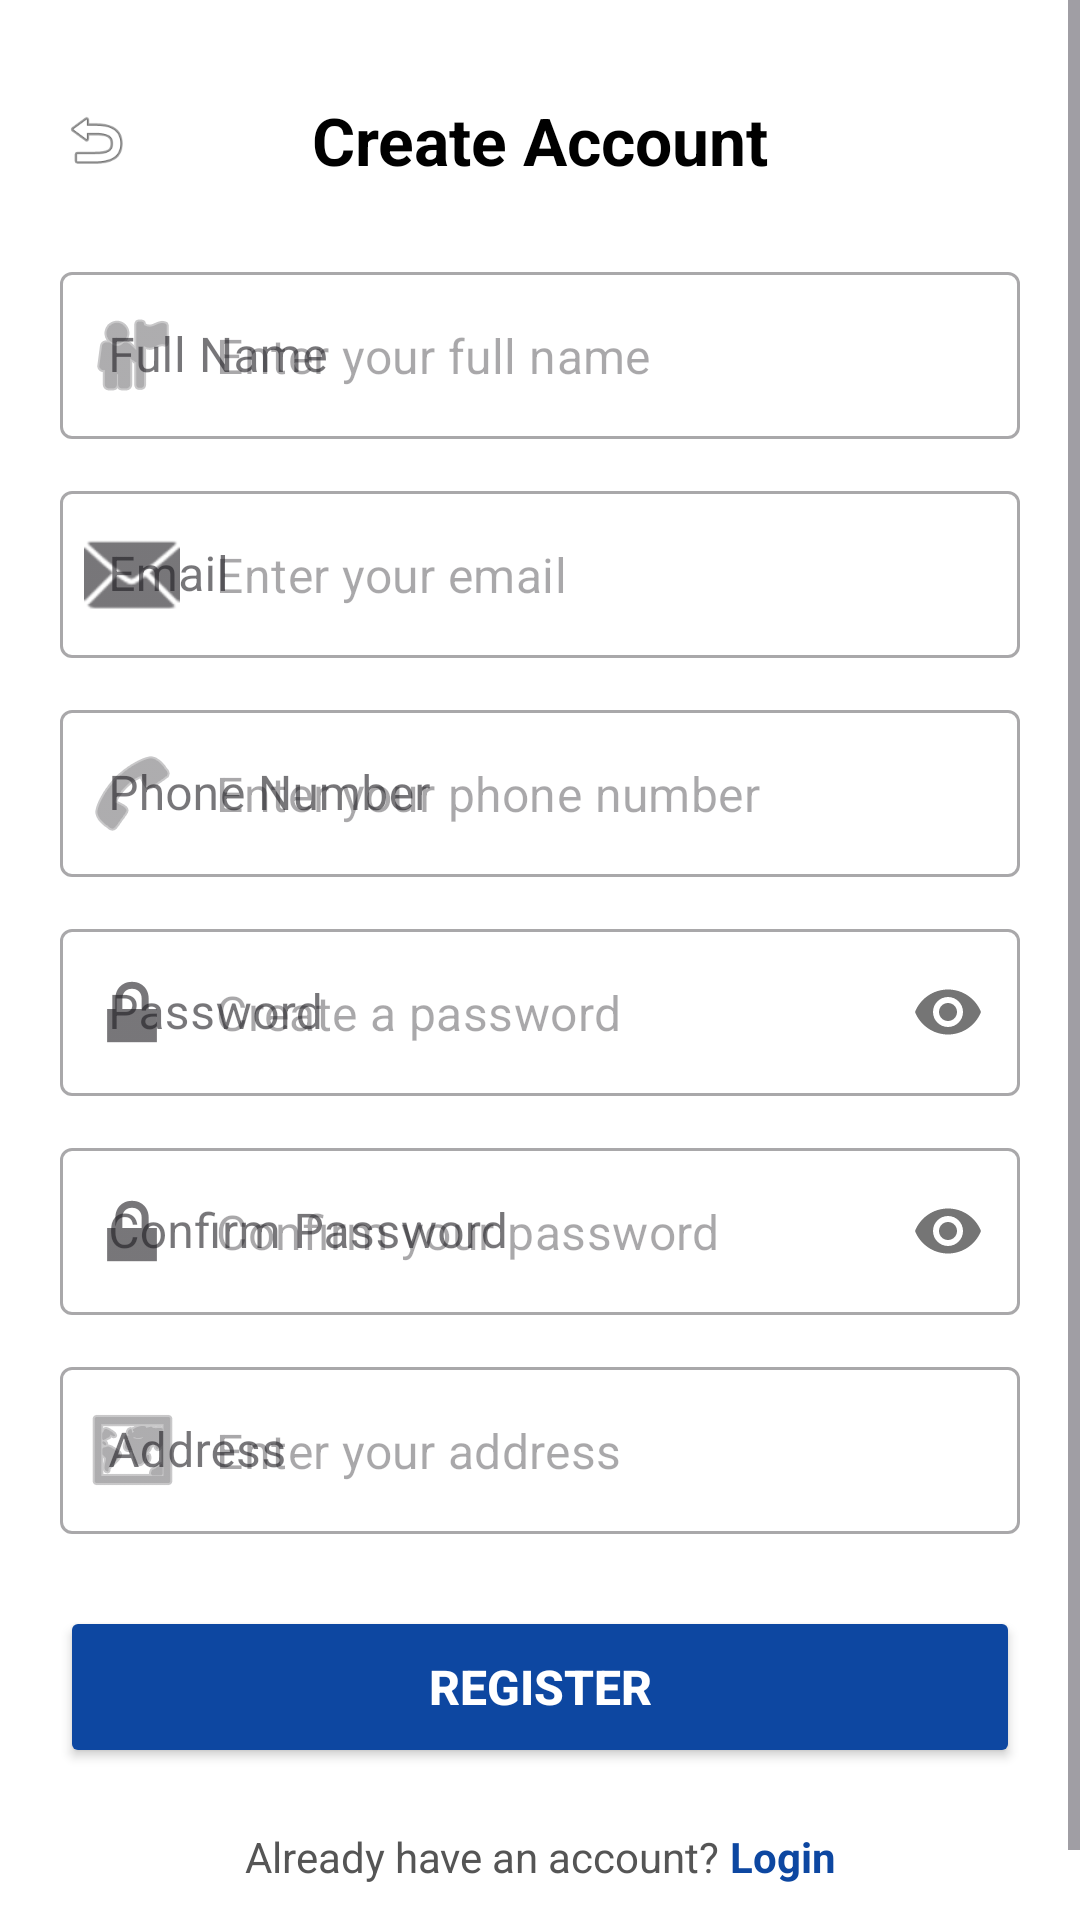

Icon bounding boxes for this 1080×1920 phone screenshot, format (x1, y1, x2, y2):
revert: (71, 117, 123, 164)
